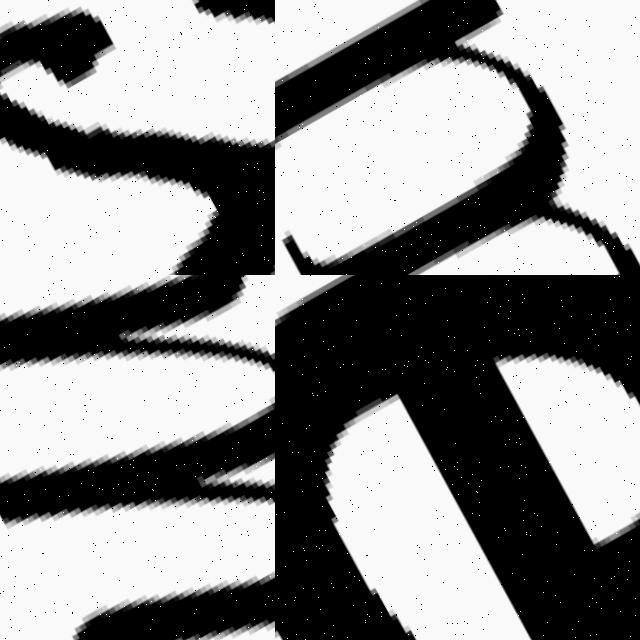E: (275, 275, 640, 640)
M: (275, 0, 640, 275), (0, 275, 275, 640)
X: (0, 0, 275, 275)
